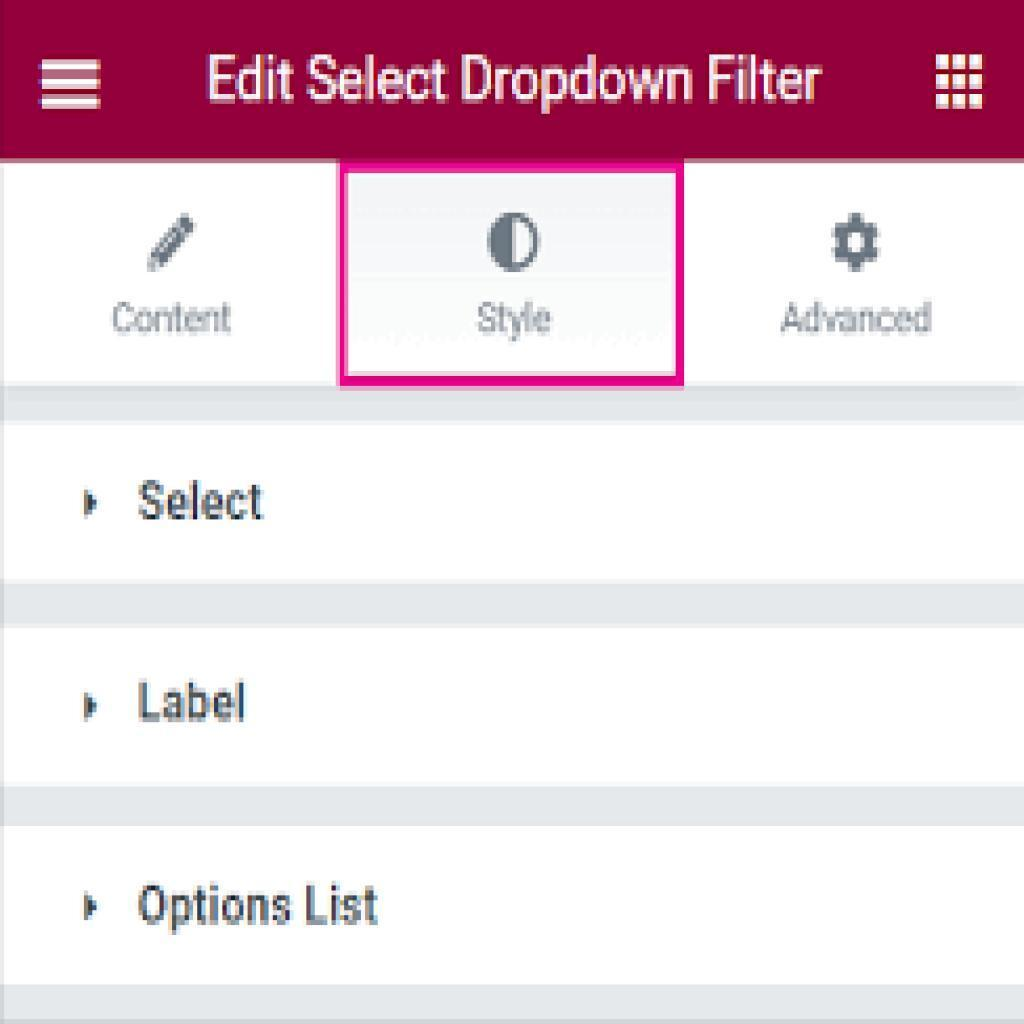button: (23, 422, 1008, 590), (20, 625, 1012, 786), (22, 835, 1009, 979)
icon: (484, 211, 551, 276), (37, 55, 105, 112), (931, 51, 989, 114), (831, 211, 884, 277), (145, 208, 197, 274)
label: (205, 48, 826, 110), (778, 297, 935, 342), (110, 298, 236, 341), (475, 295, 563, 347)
